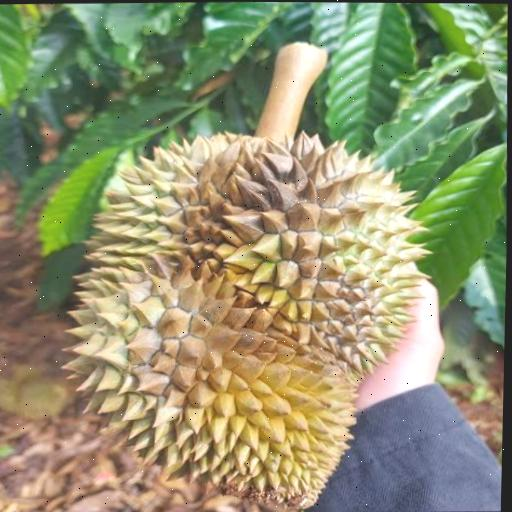rot: (59, 30, 479, 512)
